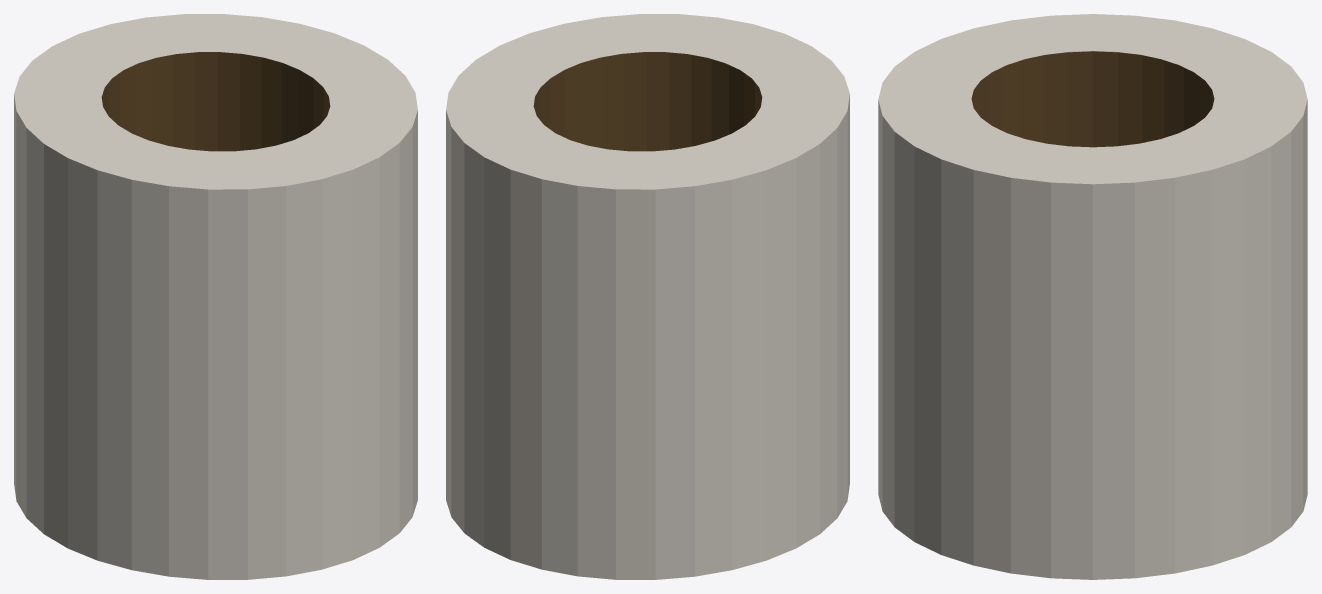
The model's file is paper.fbx.
3 renders of one model, left to right at view 1: azimuth 30°, elevation 25°; view 2: azimuth 150°, elevation 25°; view 3: azimuth 270°, elevation 25°, orthographic.
Parts seen in each view (by area): view 1: Cylinder; view 2: Cylinder; view 3: Cylinder.
Boxes of the visible parts, x1=… form: Cylinder: x1=14, y1=14, x2=417, y2=579; Cylinder: x1=446, y1=14, x2=849, y2=579; Cylinder: x1=878, y1=14, x2=1307, y2=579.
Bounding box in the file's own units: 215 × 234 × 230.
